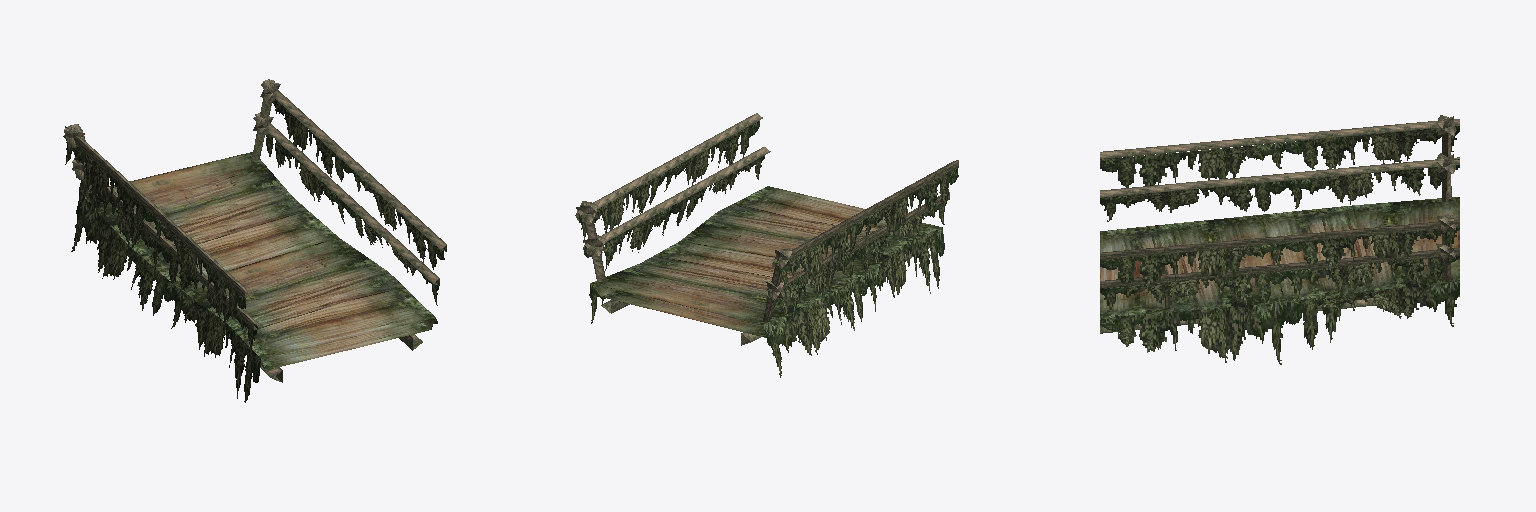
3 renders of one model, left to right at view 1: azimuth 30°, elevation 25°; view 2: azimuth 150°, elevation 25°; view 3: azimuth 270°, elevation 25°, orthographic.
Parts seen in each view (by area): view 1: Node 0; view 2: Node 0; view 3: Node 0.
Part boxes in pixels (x1,y1,x2,y2): Node 0: (63, 79, 446, 402); Node 0: (575, 113, 958, 377); Node 0: (1100, 115, 1459, 364).
Size of the model in its own units: 9.11 by 7.57 by 13.43.
Materials: 3 (3 with a texture image).